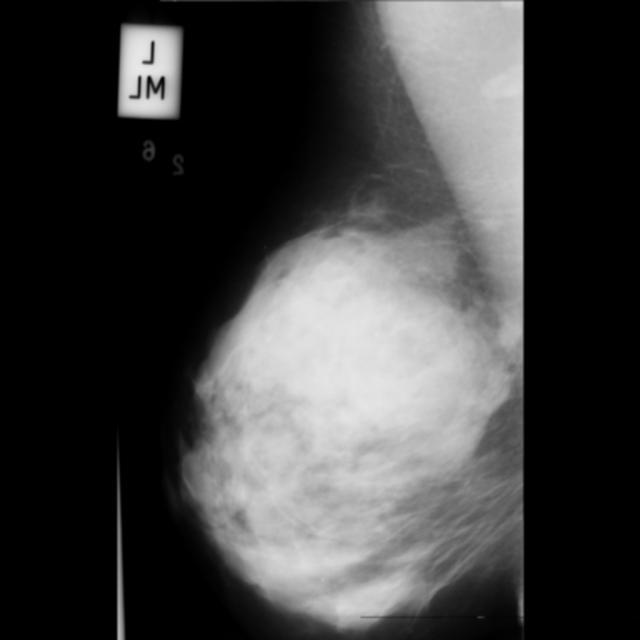ARCH: (213, 381, 276, 443)
